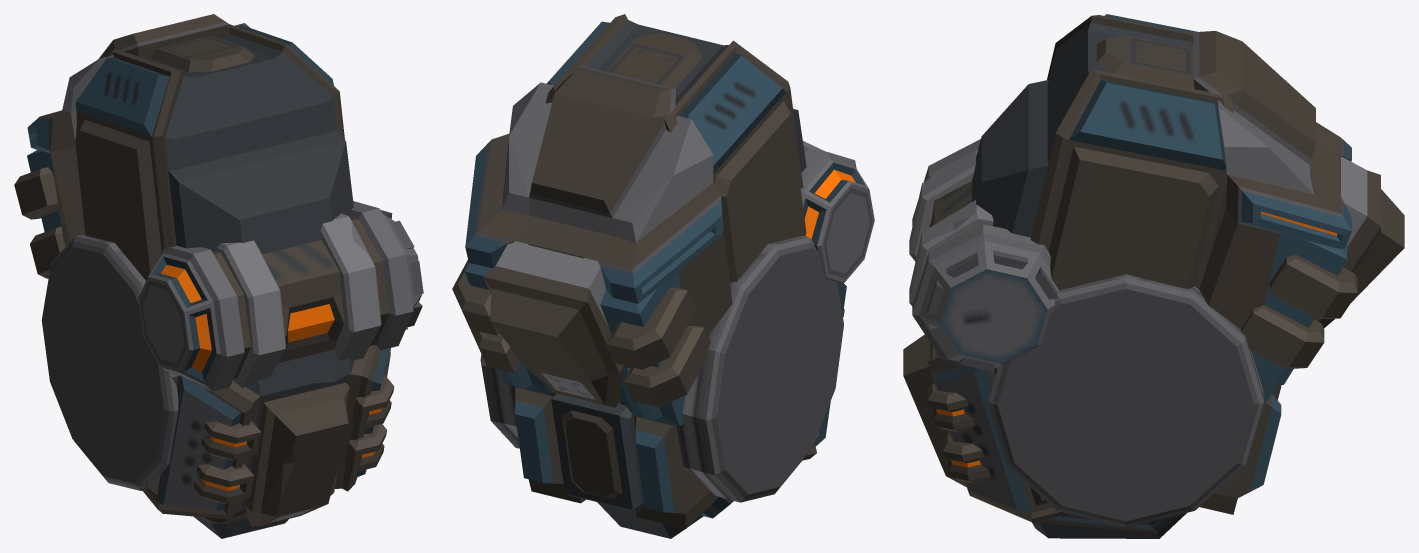
Rendered from SM_Mech_Hips_01_Armor_02.fbx.
The picture shows the model from 3 angles, left to right: view 1: azimuth 30°, elevation 25°; view 2: azimuth 150°, elevation 25°; view 3: azimuth 270°, elevation 25°; orthographic projection. The views are drawn at different scales.
Parts seen in each view (by area): view 1: SM_Mech_Hips_01_Armor_02; view 2: SM_Mech_Hips_01_Armor_02; view 3: SM_Mech_Hips_01_Armor_02.
Part boxes in pixels (left/top/right/bottom): SM_Mech_Hips_01_Armor_02: left=14, top=14, right=423, bottom=538; SM_Mech_Hips_01_Armor_02: left=452, top=14, right=874, bottom=538; SM_Mech_Hips_01_Armor_02: left=903, top=14, right=1404, bottom=538.
Size of the model in its own units: 55.23 by 103 by 96.73.
